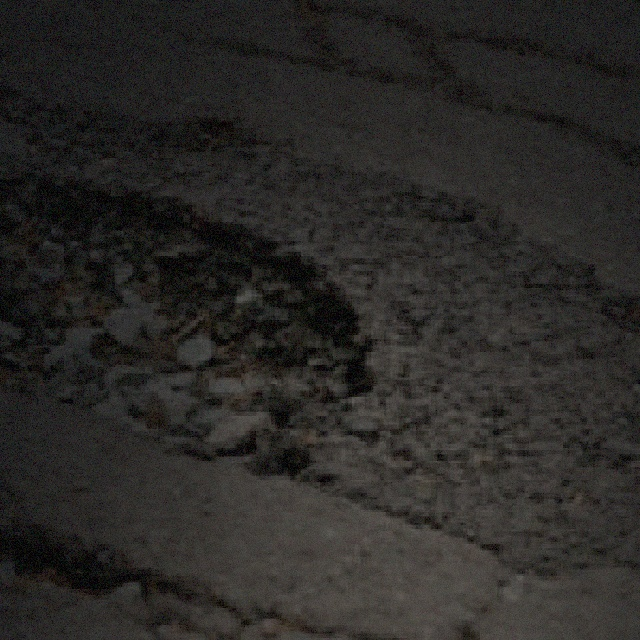pothole: (0, 171, 380, 480), (0, 522, 139, 600)
